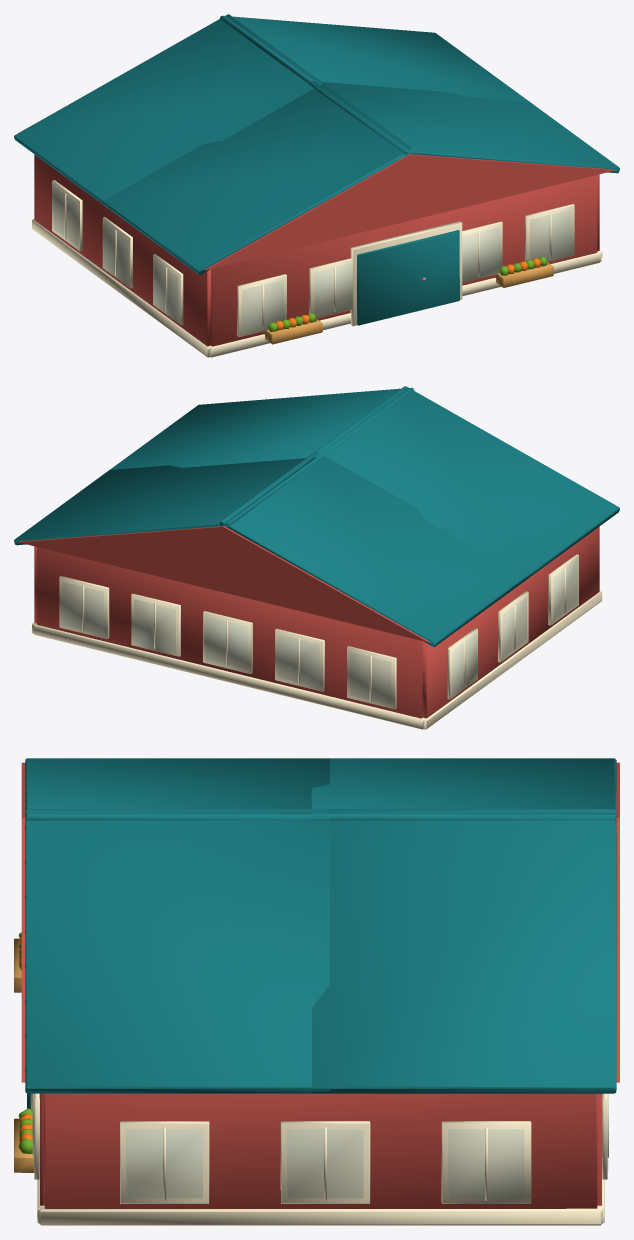
The model's file is project_4-low.glb.
The picture shows the model from 3 angles, top to bottom: view 1: azimuth 30°, elevation 25°; view 2: azimuth 150°, elevation 25°; view 3: azimuth 270°, elevation 25°; orthographic projection. The views are drawn at different scales.
Parts seen in each view (by area): view 1: roof half.010, roof half.008, painted gable.005, wall.009, foundation trim.009, door.003, wall.010, foundation trim.010, blue window.037, blue window.042, door frame.002, planter.004 (+1 smaller); view 2: roof half.008, roof half.010, wall.008, foundation trim.008, painted gable.004, blue window.032, wall.010, foundation trim.010, blue window.042; view 3: roof half.010, roof half.008, wall.011, foundation trim.011, blue window.045, painted gable.005, painted gable.004, foundation trim.009, foundation trim.008.
Boxes of the visible parts, x1,y1,x2,y2 form: roof half.010: (103, 79, 619, 274); roof half.008: (14, 14, 529, 209); painted gable.005: (204, 154, 615, 270); wall.009: (211, 175, 597, 346); foundation trim.009: (210, 204, 600, 357); door.003: (357, 230, 459, 325); wall.010: (34, 154, 211, 346); foundation trim.010: (32, 180, 210, 357); blue window.037: (243, 210, 570, 332); blue window.042: (54, 186, 177, 319); door frame.002: (350, 221, 462, 326); planter.004: (264, 319, 322, 344); roof half.008: (14, 451, 530, 646); roof half.010: (110, 386, 619, 580); wall.008: (36, 547, 422, 718); foundation trim.008: (33, 576, 423, 729); painted gable.004: (18, 526, 429, 642); blue window.032: (63, 582, 390, 704); wall.010: (422, 526, 599, 718); foundation trim.010: (423, 554, 602, 729); blue window.042: (453, 561, 576, 693); roof half.010: (25, 758, 330, 1093); roof half.008: (311, 758, 616, 1093); wall.011: (44, 1093, 597, 1208); foundation trim.011: (39, 1121, 602, 1225); blue window.045: (127, 1129, 523, 1197); painted gable.005: (21, 762, 25, 1082); painted gable.004: (616, 762, 619, 1082); foundation trim.009: (32, 1093, 44, 1223); foundation trim.008: (597, 1093, 608, 1223).
Bounding box in the file's own units: 16.44 × 6.13 × 12.8.
